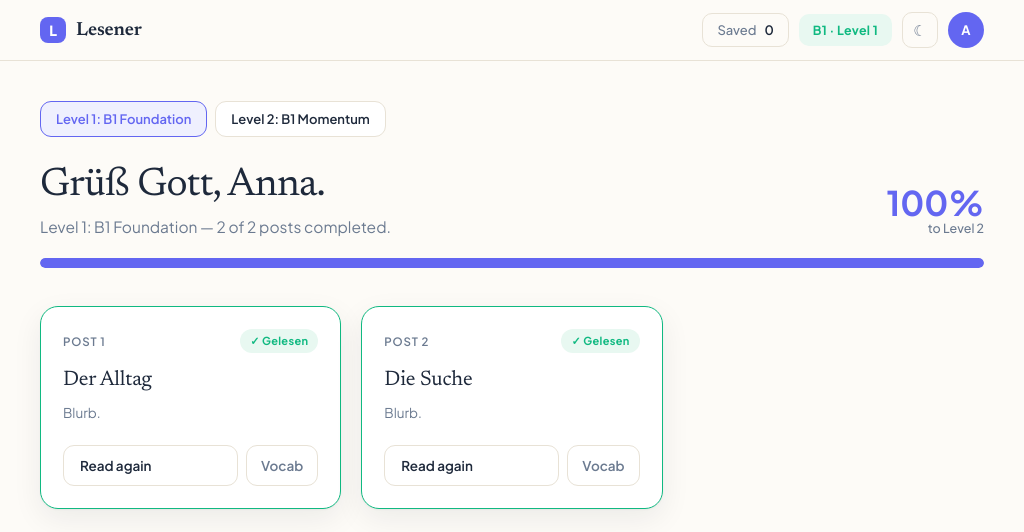
Test: a level that is unlocked but holds nothing › says it is empty, and does not claim to be locked
Step 1. Click the button "Level 2: B1 Momentum" → point(301, 119), box [215,101,386,137]
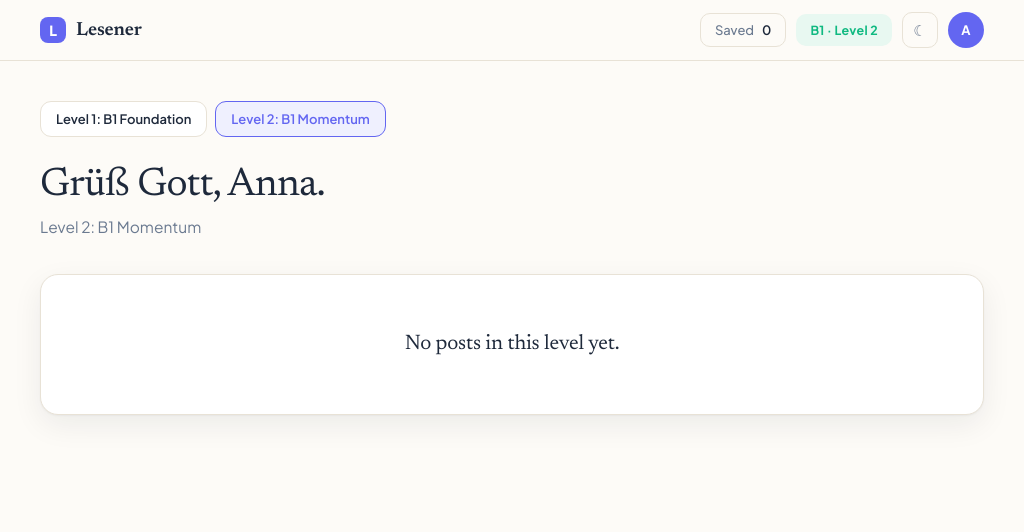
Expected: the text "No posts in this level yet." is shown, [405,334,619,355]
